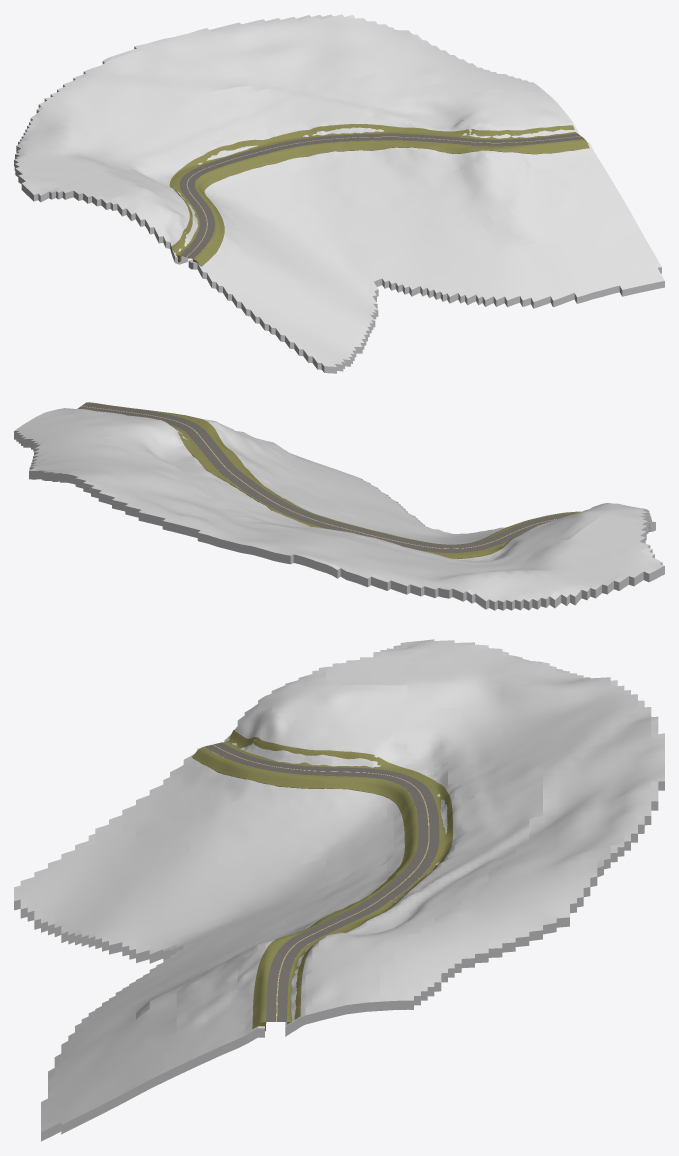
Rendered from conz_201.glb.
3 views of the same model, one above another, from view 1: azimuth 30°, elevation 25°; view 2: azimuth 150°, elevation 25°; view 3: azimuth 270°, elevation 25° (orthographic). The views are drawn at different scales.
Visible parts, largest first — view 1: terrain201, verge201R, road201, verge201L; view 2: terrain201, road201, verge201R, verge201L, paint_yellow201; view 3: terrain201, road201, verge201R, verge201L.
Part boxes in pixels (left/top/right/bottom): terrain201: left=14, top=14, right=664, bottom=373; verge201R: left=193, top=139, right=589, bottom=268; road201: left=179, top=133, right=584, bottom=258; verge201L: left=169, top=124, right=576, bottom=262; terrain201: left=14, top=408, right=664, bottom=610; road201: left=77, top=402, right=577, bottom=552; verge201R: left=87, top=402, right=580, bottom=544; verge201L: left=110, top=412, right=558, bottom=558; paint_yellow201: left=81, top=406, right=556, bottom=548; terrain201: left=14, top=639, right=664, bottom=1141; road201: left=204, top=742, right=439, bottom=1021; verge201R: left=192, top=747, right=418, bottom=1031; verge201L: left=222, top=730, right=452, bottom=1024.
Bounding box in the file's own units: 236 × 67.04 × 192.
